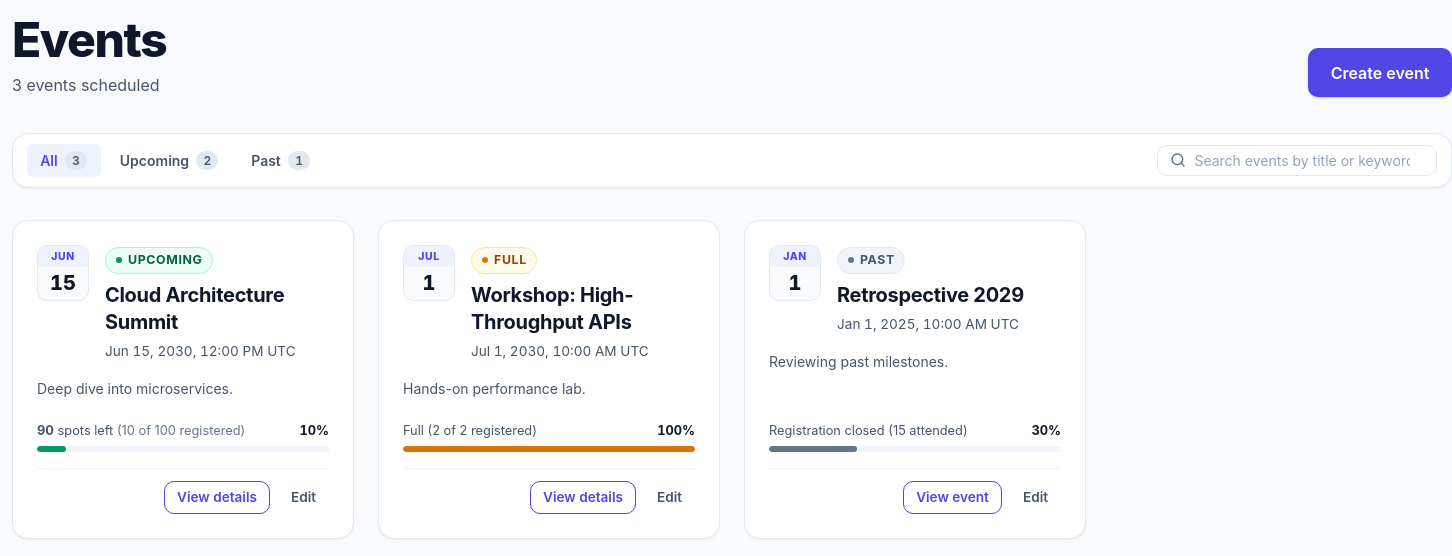
Test case: EventListPage Component › filters events by search query including leading and trailing whitespace
The width and height of the screenshot is (1452, 556).
Expected: the link "Cloud Architecture Summit" is shown, [105,283,284,334]
Note: Query with untrimmed whitespace
Step 1. Type "   architecture   " into the search field labelled "Search events by title or keyword..." → (1309, 160), box [1194,152,1424,169]
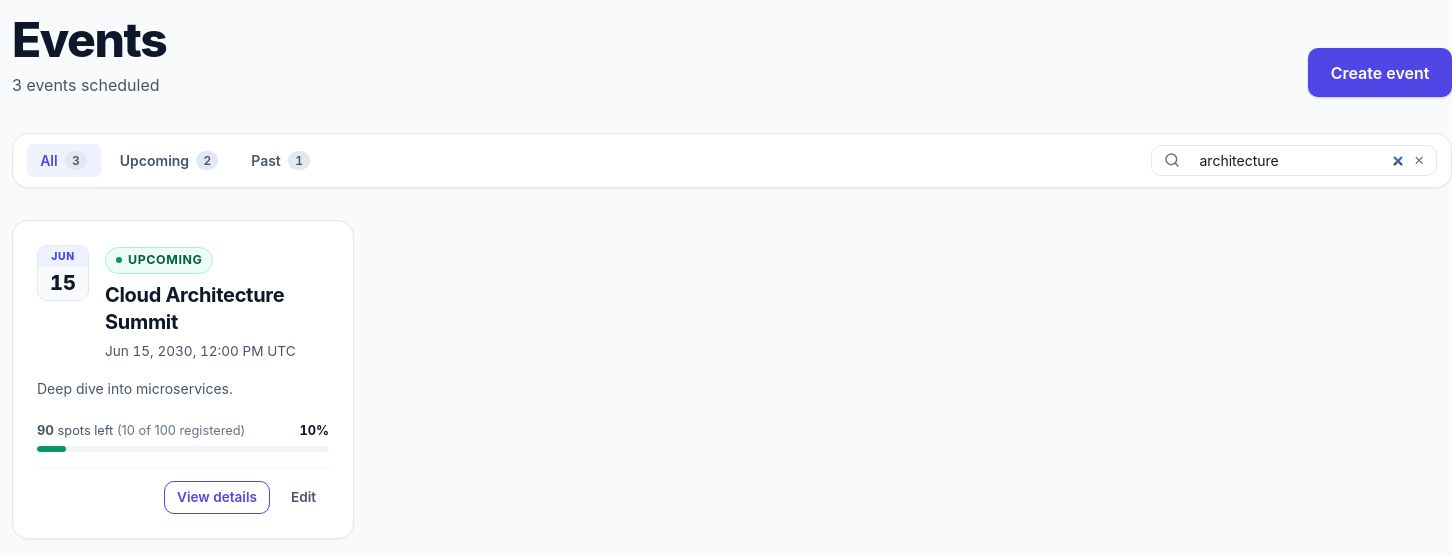
Expected: the link "Cloud Architecture Summit" is shown, [105,283,284,334]
Now the link "Workshop: High-Throughput APIs" is gone
Now the link "Retrospective 2029" is gone
